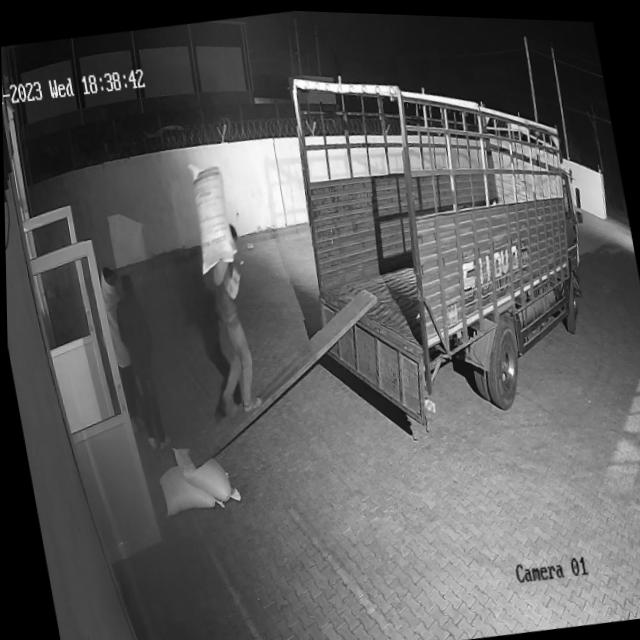sack: (181, 156, 238, 273), (171, 440, 238, 508), (154, 458, 222, 518)
